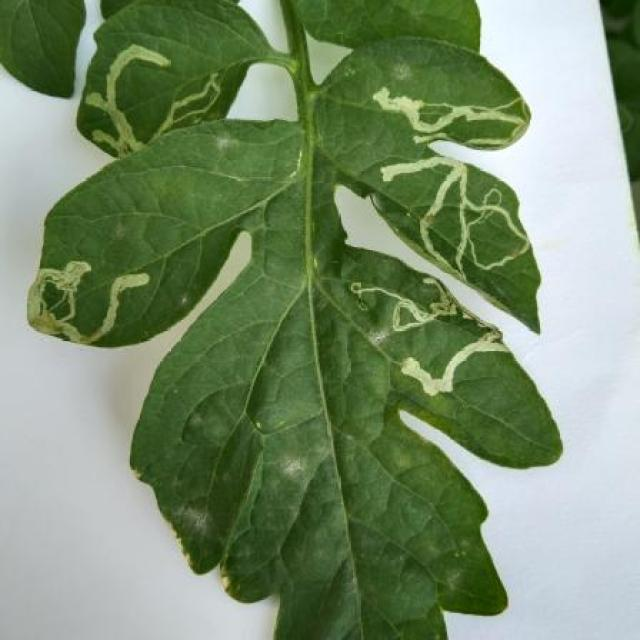Leaf Miner: (25, 38, 562, 640), (74, 0, 270, 159)
